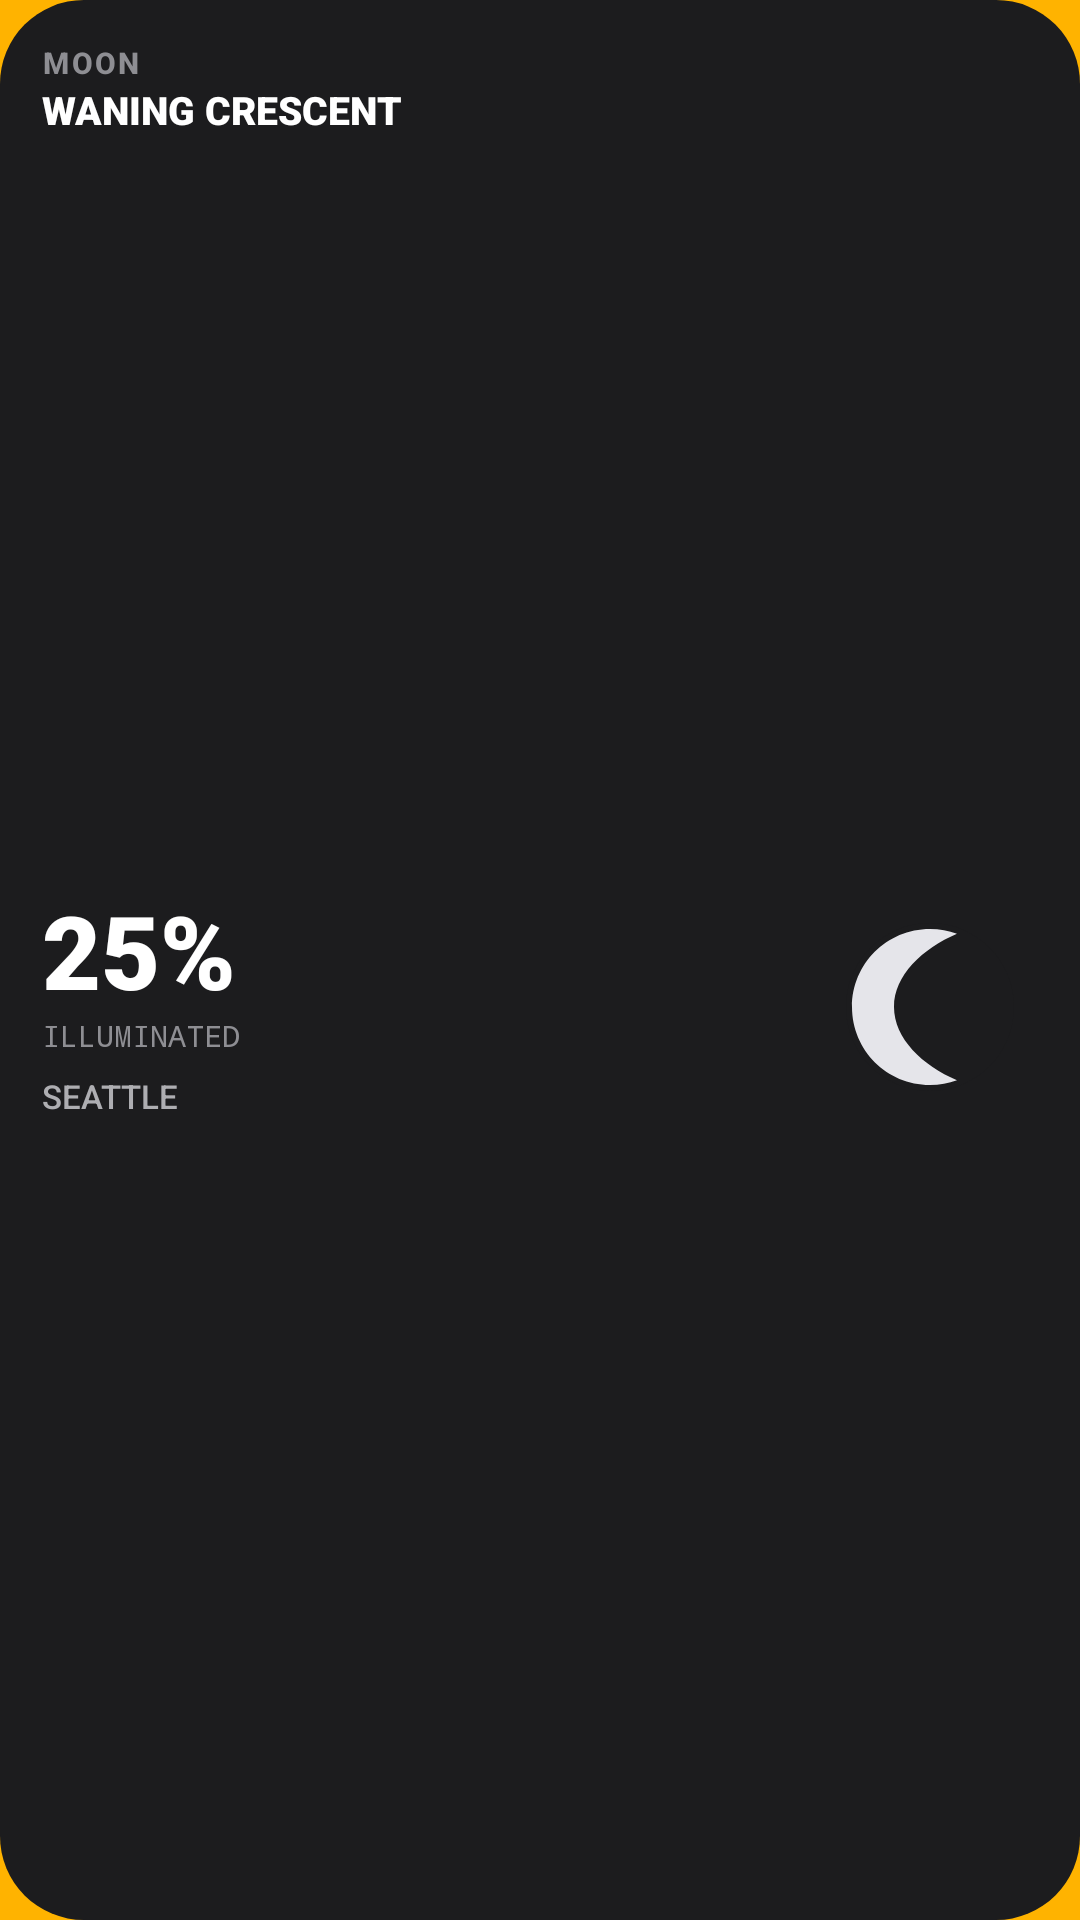

Screen size 1080px×1920px. Icon name, then its box in pixels as bbox=[x1, y1, x2, y2]:
Moon phase (2×2): bbox=[851, 929, 957, 1085]
